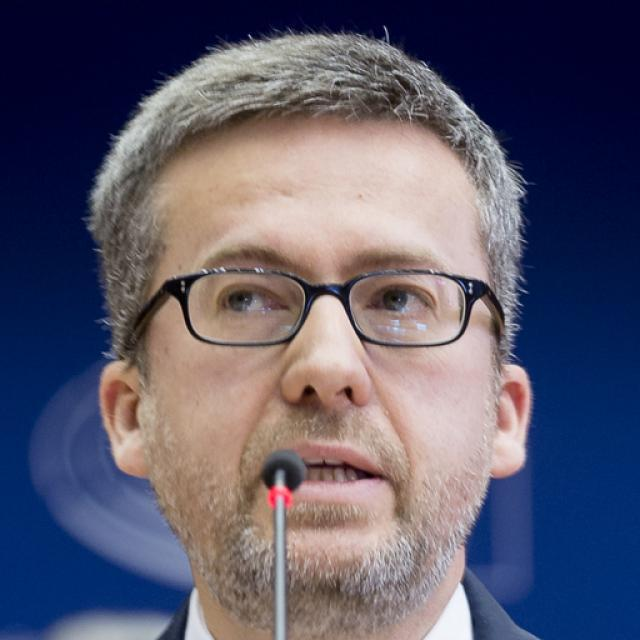disgust: (145, 116, 495, 616)
